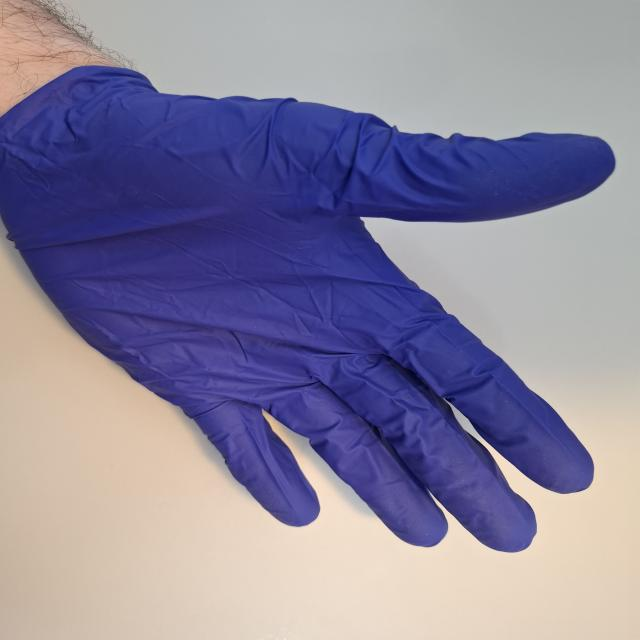glove_on: (0, 63, 621, 554)
